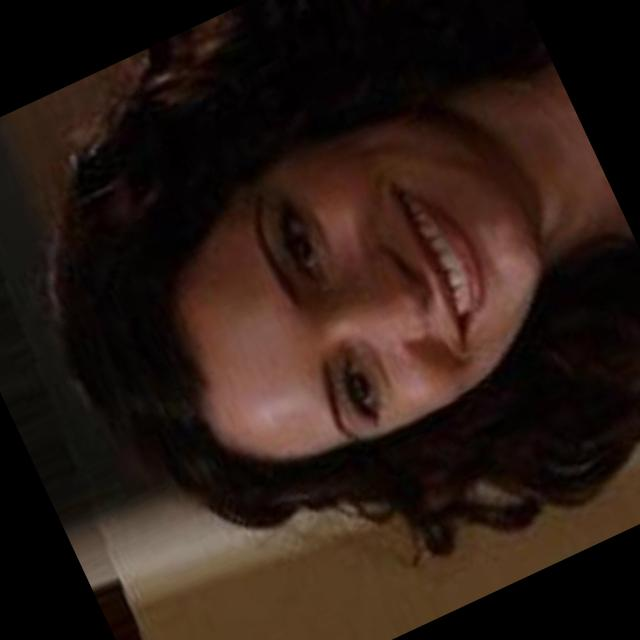bareface: (68, 41, 566, 526)
